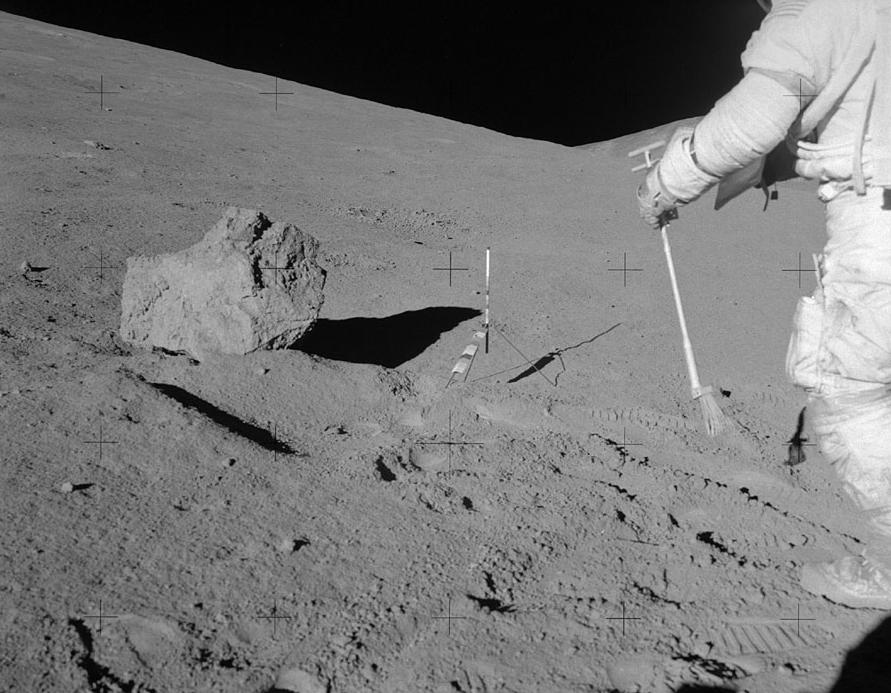rock: (122, 207, 325, 359)
